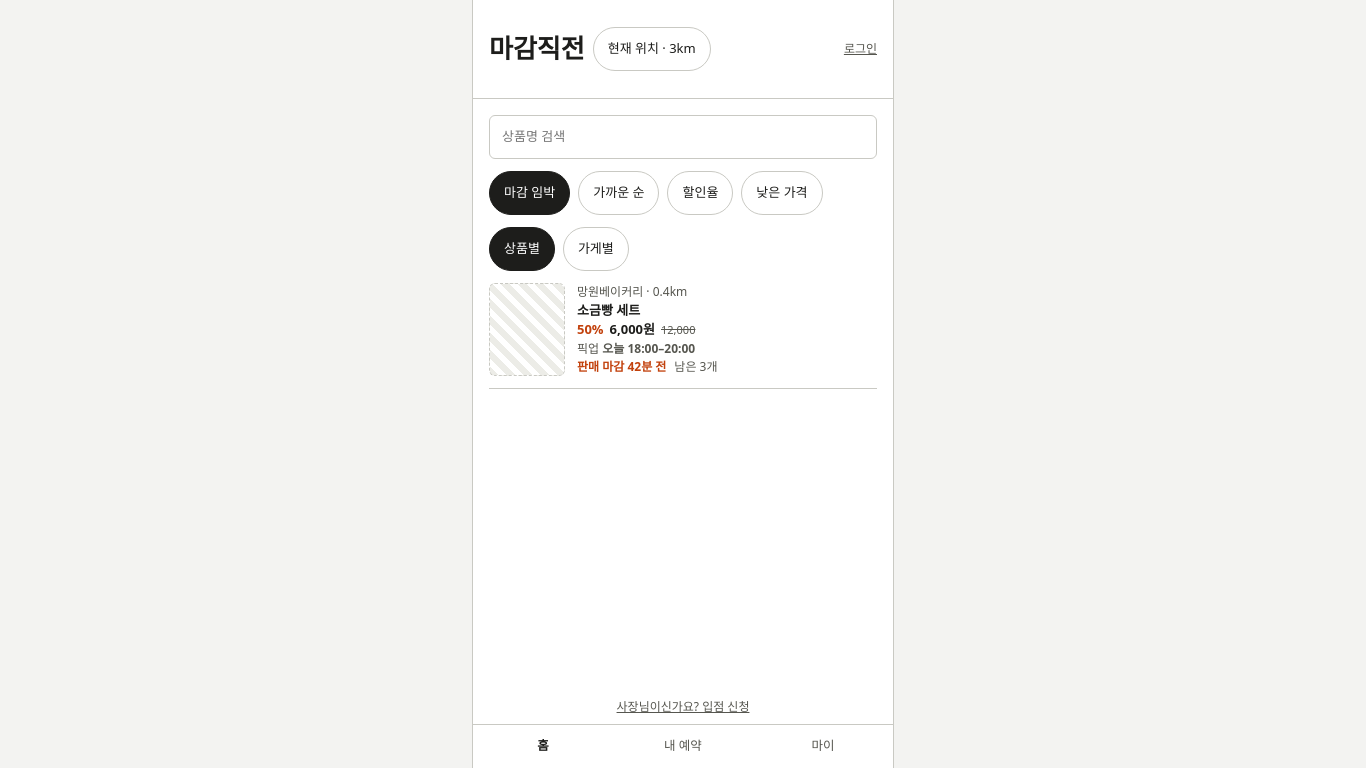
Test: HomePage (C1·C1a) › C1a: 바깥(.dim) 클릭은 적용 없이 닫고 URL이 그대로이며, 시트 안 클릭은 닫지 않는다
This screenshot has width=1366, height=768.
Step 1. Click the button "현재 위치 · 3km" → (652, 49), box [593,27,711,71]
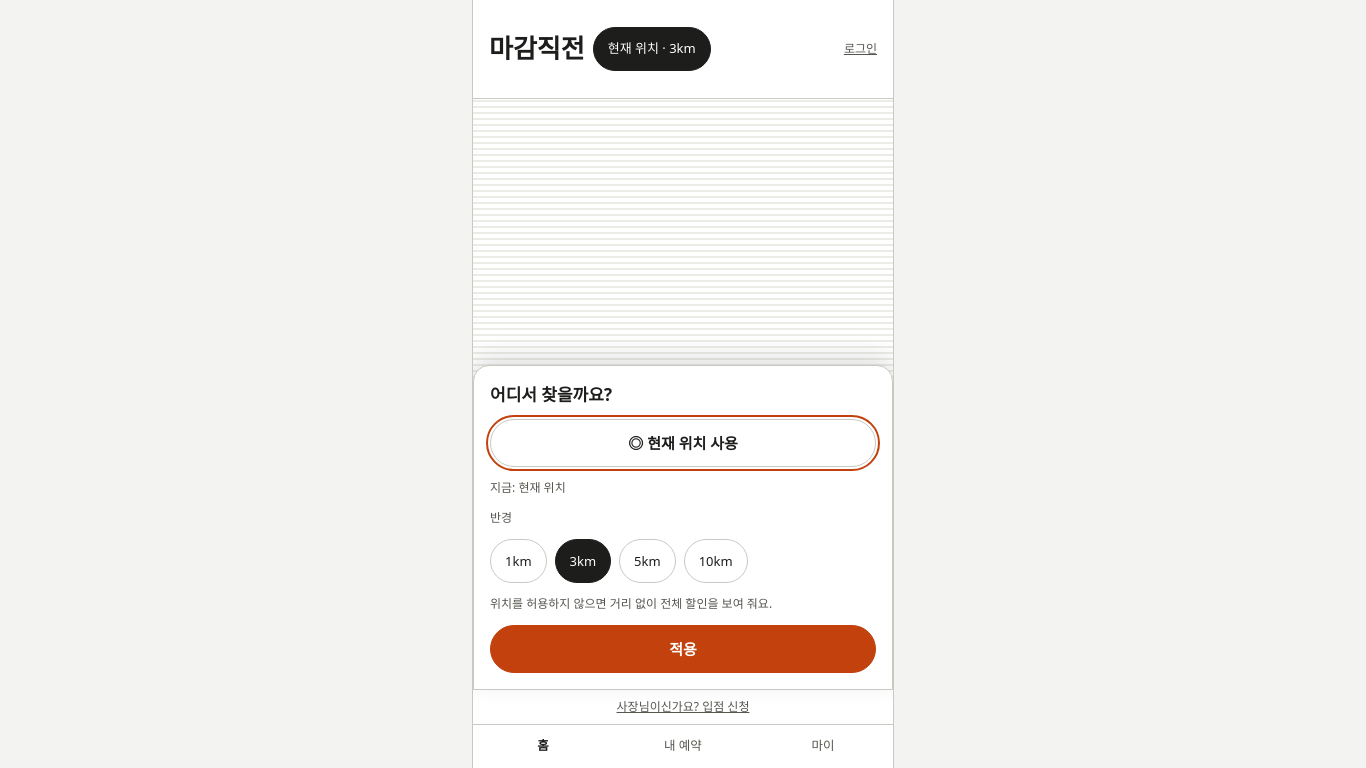
Step 2. Click the button "10km" → (716, 561), box [684,539,748,583]
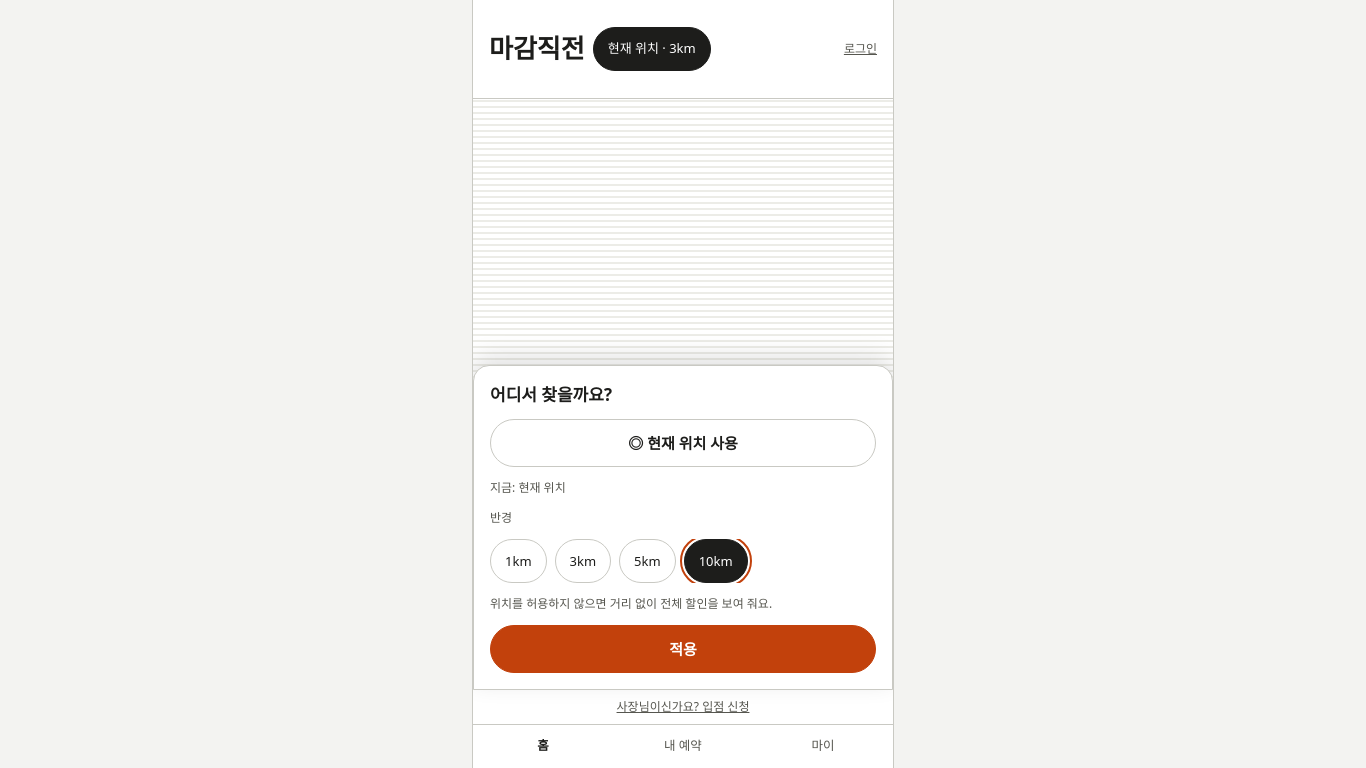
Step 3. Click the text "반경" → (501, 518), box [490,509,512,526]
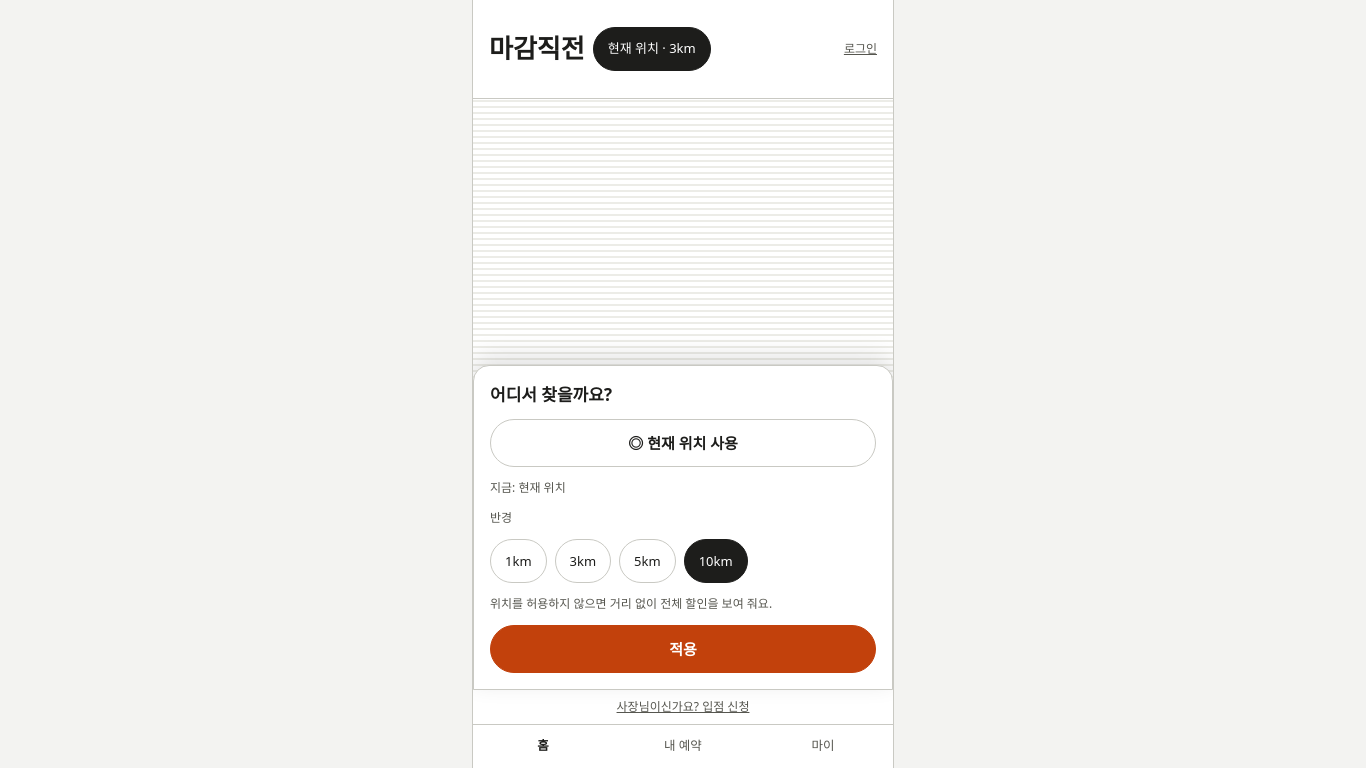
Expected: the dialog is shown, [473,365,893,690]
Step 4. Click the element that starts with "어디서 찾을까요?" → (683, 394), box [473,99,893,690]
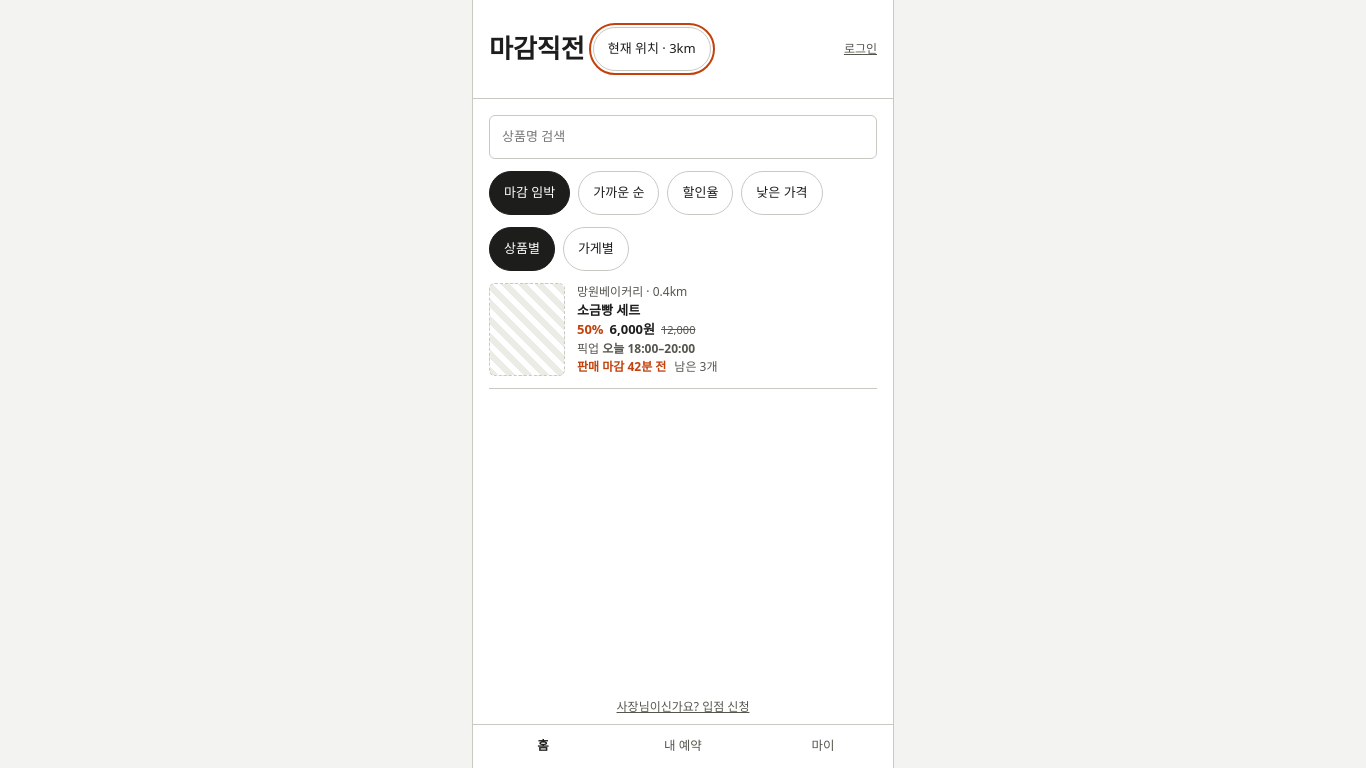
Expected: the dialog is gone
